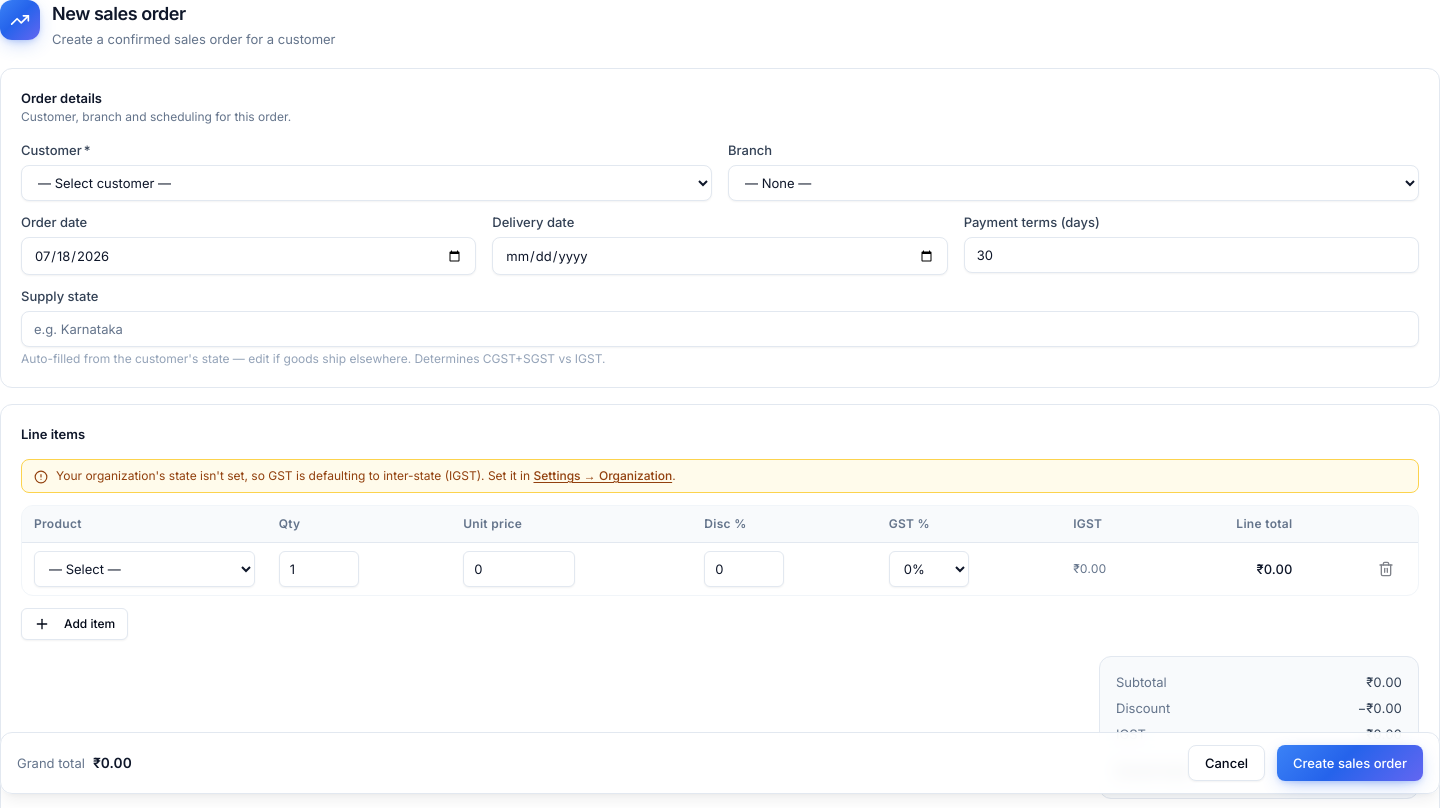
SalesOrderForm › surfaces a server error and does not navigate
Select "Acme Retail" in the dropdown labelled "Customer*" at (366, 183), box x1=21 y1=165 x2=712 y2=201
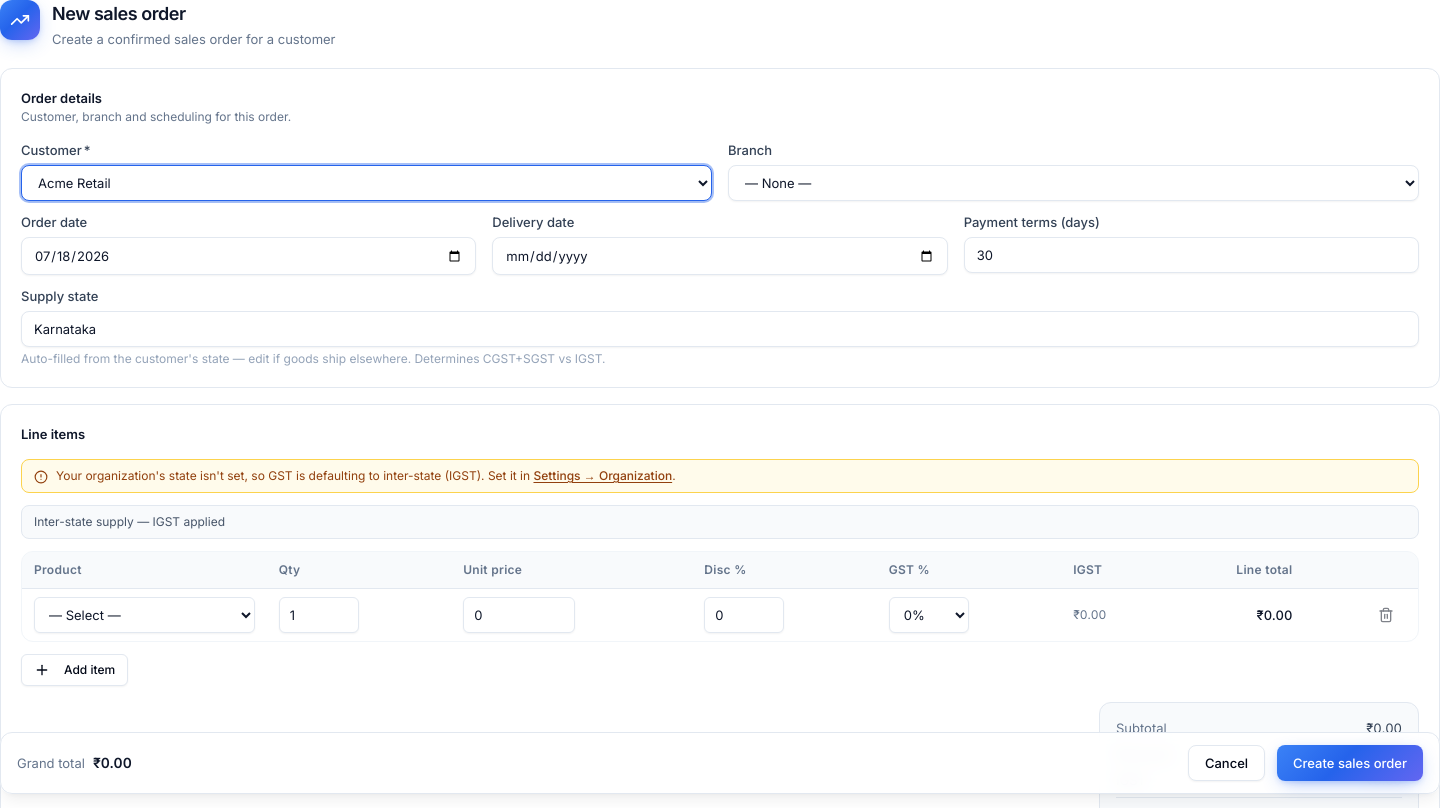
Select "Widget" in the dropdown named "Product for line 1" at (144, 614), box x1=34 y1=596 x2=255 y2=632
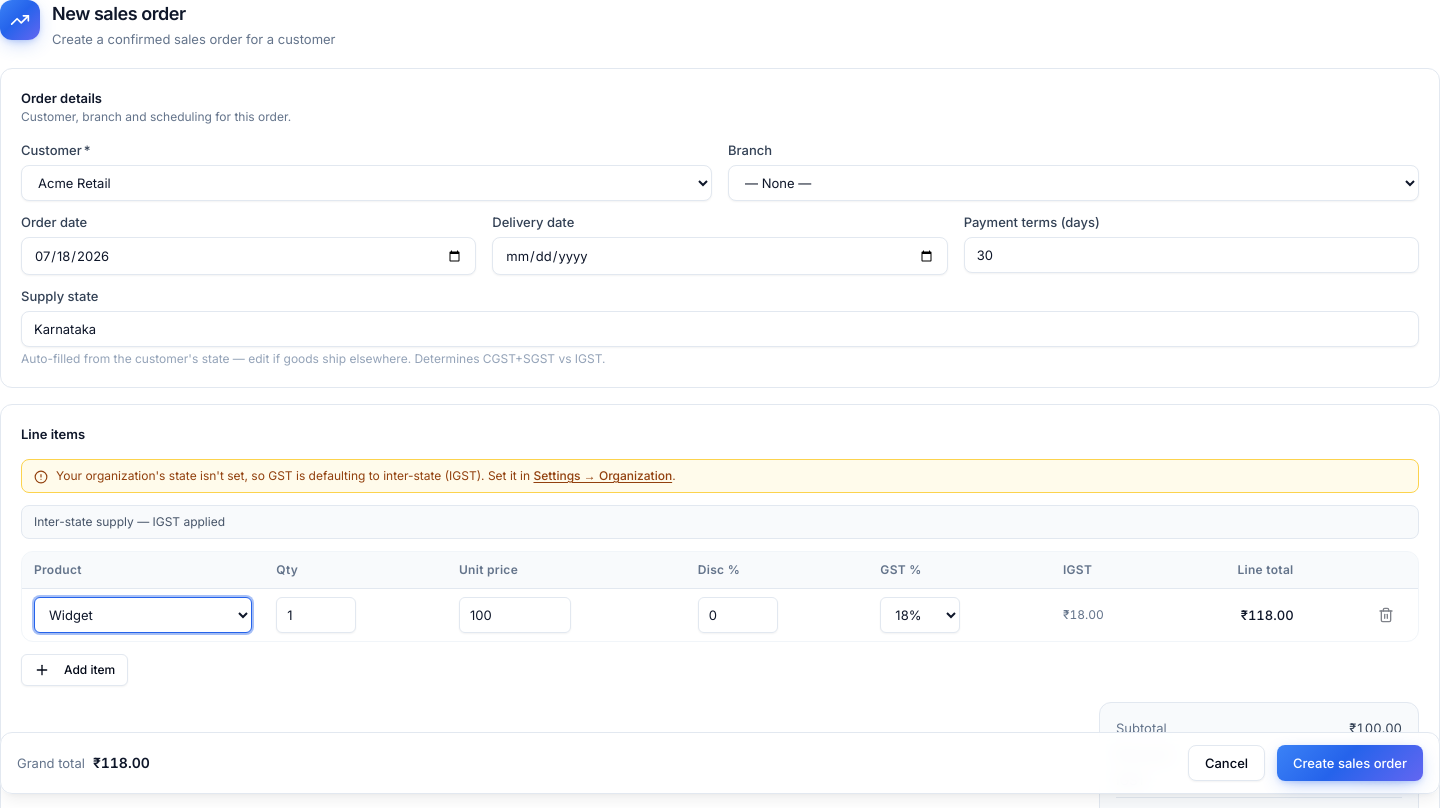
Click the button "Create sales order" at (1350, 763), box x1=1277 y1=745 x2=1423 y2=781
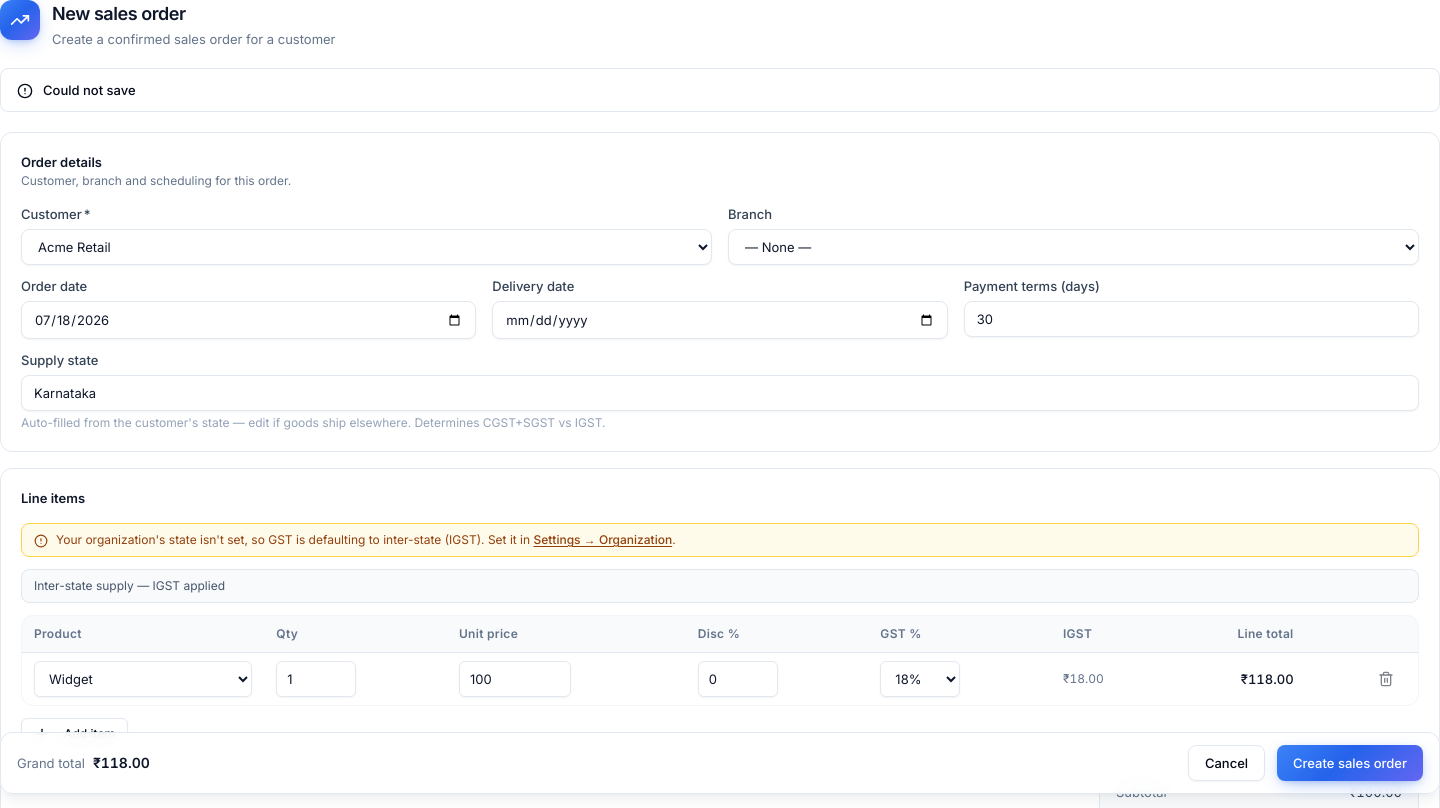
Expected: the text "Could not save" is shown, x1=43 y1=81 x2=136 y2=99
